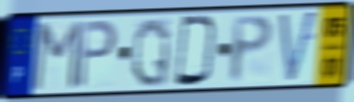D: (173, 14, 220, 89)
M: (29, 18, 85, 93)
P: (229, 12, 276, 85), (75, 18, 120, 91)
Q: (130, 15, 172, 89)
V: (277, 7, 319, 87)
